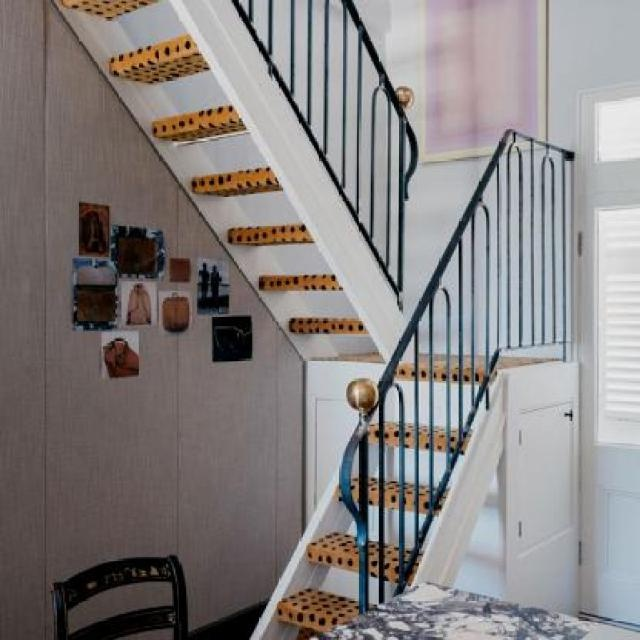stair: (199, 229, 590, 640)
